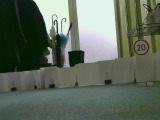speed_20: (132, 38, 150, 56)
